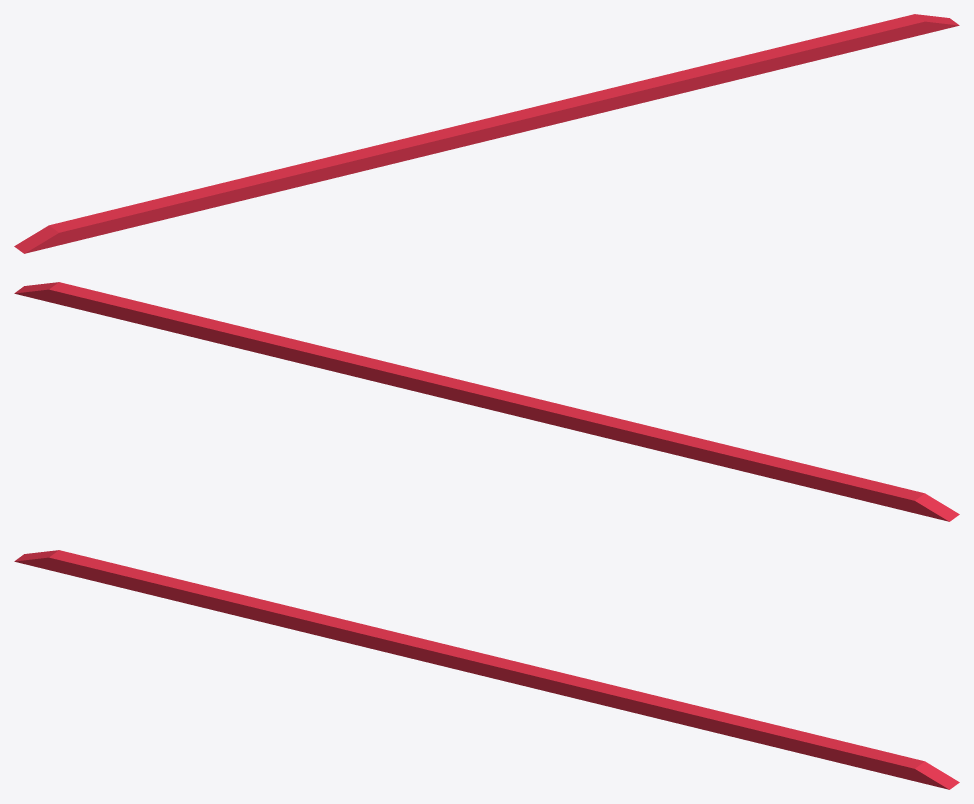
Rendered from RedLine.glb.
3 views of the same model, one above another, from view 1: azimuth 30°, elevation 25°; view 2: azimuth 150°, elevation 25°; view 3: azimuth 330°, elevation 25° (orthographic).
Parts seen in each view (by area): view 1: RedLine; view 2: RedLine; view 3: RedLine.
Boxes of the visible parts, x1,y1,x2,y2 form: RedLine: (14,14,959,253); RedLine: (14,282,959,521); RedLine: (14,550,959,789).
Size of the model in its own units: 9.83 by 0.1261 by 0.1866.
Materials: 1 (1 with a texture image).
